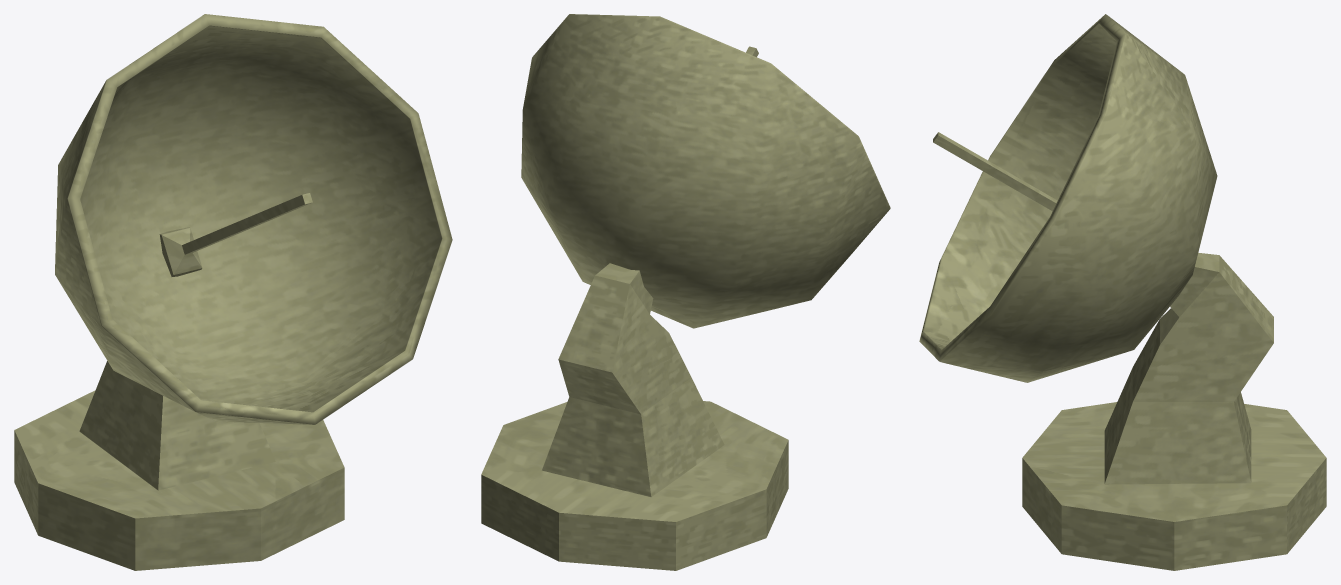
The model's file is GroundSatellite.obj.
3 views of the same model, side by side, from view 1: azimuth 30°, elevation 25°; view 2: azimuth 150°, elevation 25°; view 3: azimuth 270°, elevation 25° (orthographic). The views are drawn at different scales.
Visible parts, largest first — view 1: Satellite_Cube.001; view 2: Satellite_Cube.001; view 3: Satellite_Cube.001.
Boxes of the visible parts, x1,y1,x2,y2 form: Satellite_Cube.001: [14, 14, 452, 570]; Satellite_Cube.001: [481, 14, 890, 570]; Satellite_Cube.001: [919, 14, 1326, 570].
Size of the model in its own units: 0.9643 by 1.33 by 1.04.
1 material, 1 textured.
